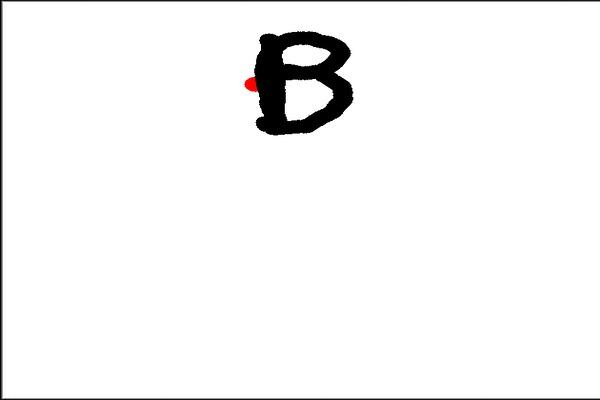B: (249, 20, 360, 142)
